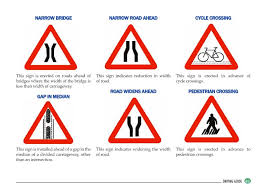Narrow_road: (107, 96, 164, 144), (103, 22, 160, 69)
